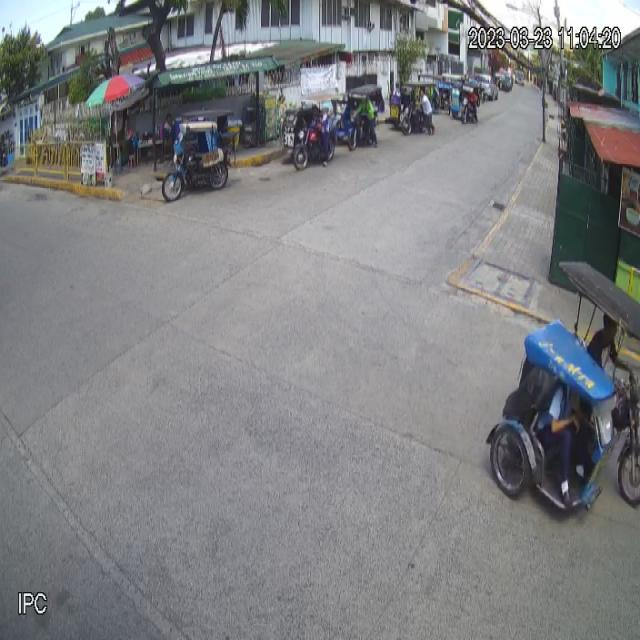Tricycle: (485, 260, 640, 513), (162, 108, 238, 204)
